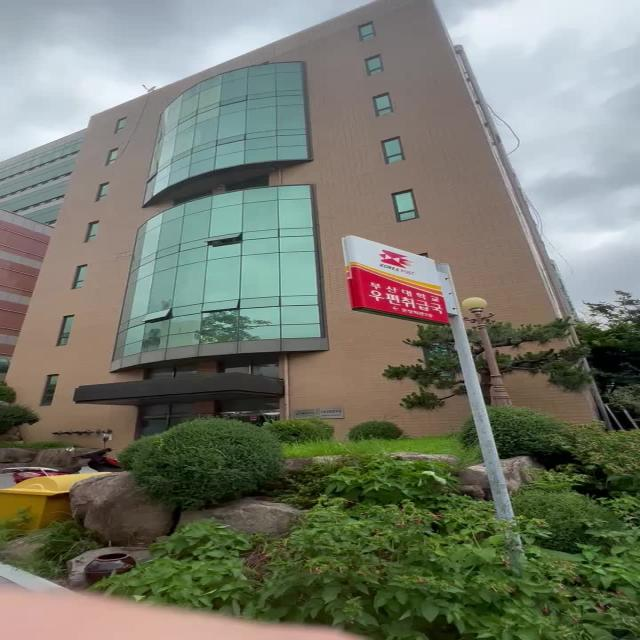building: (50, 29, 535, 257)
